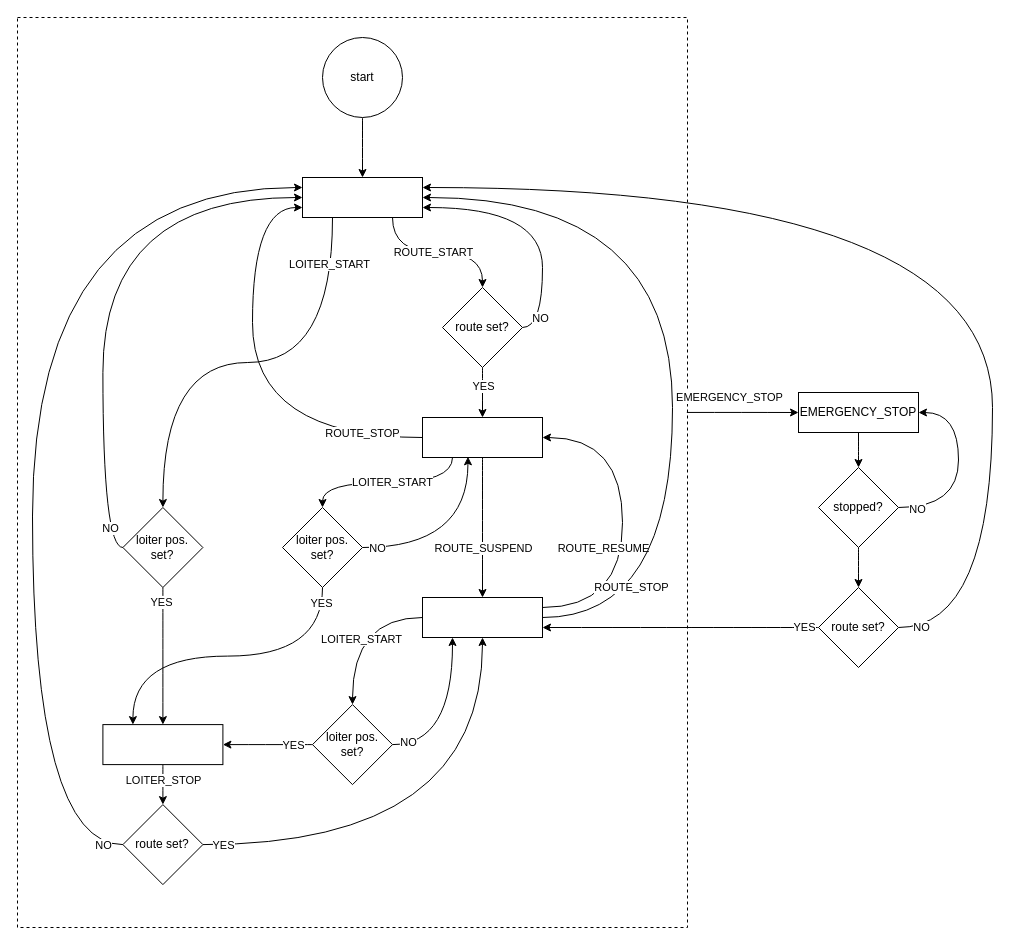
Image size: 1010x945. Some labels were removed from this diagram. Here are the shapes that lost their labels. From the top down, the centre of each, then its label:
At (362,197): "DISABLED".
At (482,437): "ENABLED".
At (482,617): "SUSPENDED".
At (162,744): "LOITERING".
